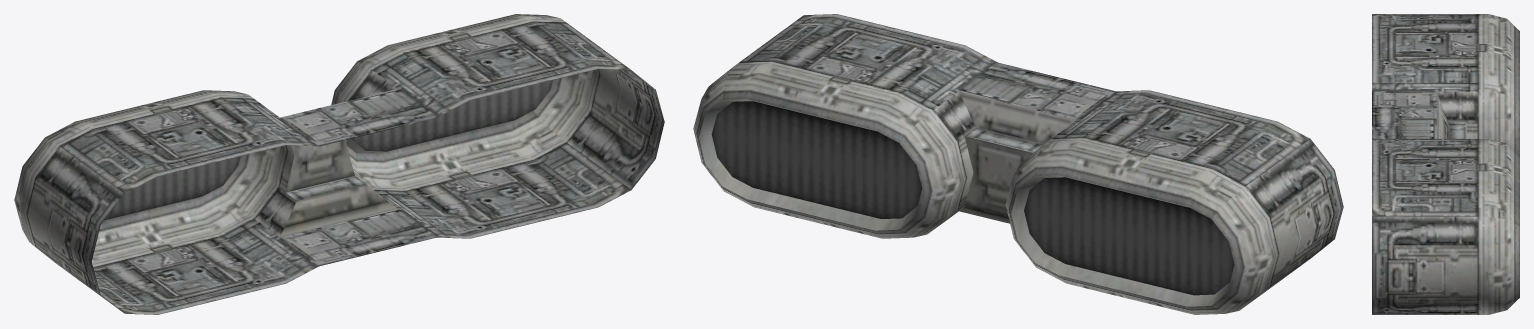
The model's file is ykl37r_engine_s02_l0.fbx.
3 views of the same model, side by side, from view 1: azimuth 30°, elevation 25°; view 2: azimuth 150°, elevation 25°; view 3: azimuth 270°, elevation 25° (orthographic). The views are drawn at different scales.
Parts seen in each view (by area): view 1: mesh_node; view 2: mesh_node; view 3: mesh_node.
Boxes of the visible parts, x1,y1,x2,y2 form: mesh_node: (14,14,664,314); mesh_node: (693,14,1343,314); mesh_node: (1372,14,1519,314).
Bounding box in the file's own units: 11.57 × 2.67 × 3.15.
1 material, 1 textured.
